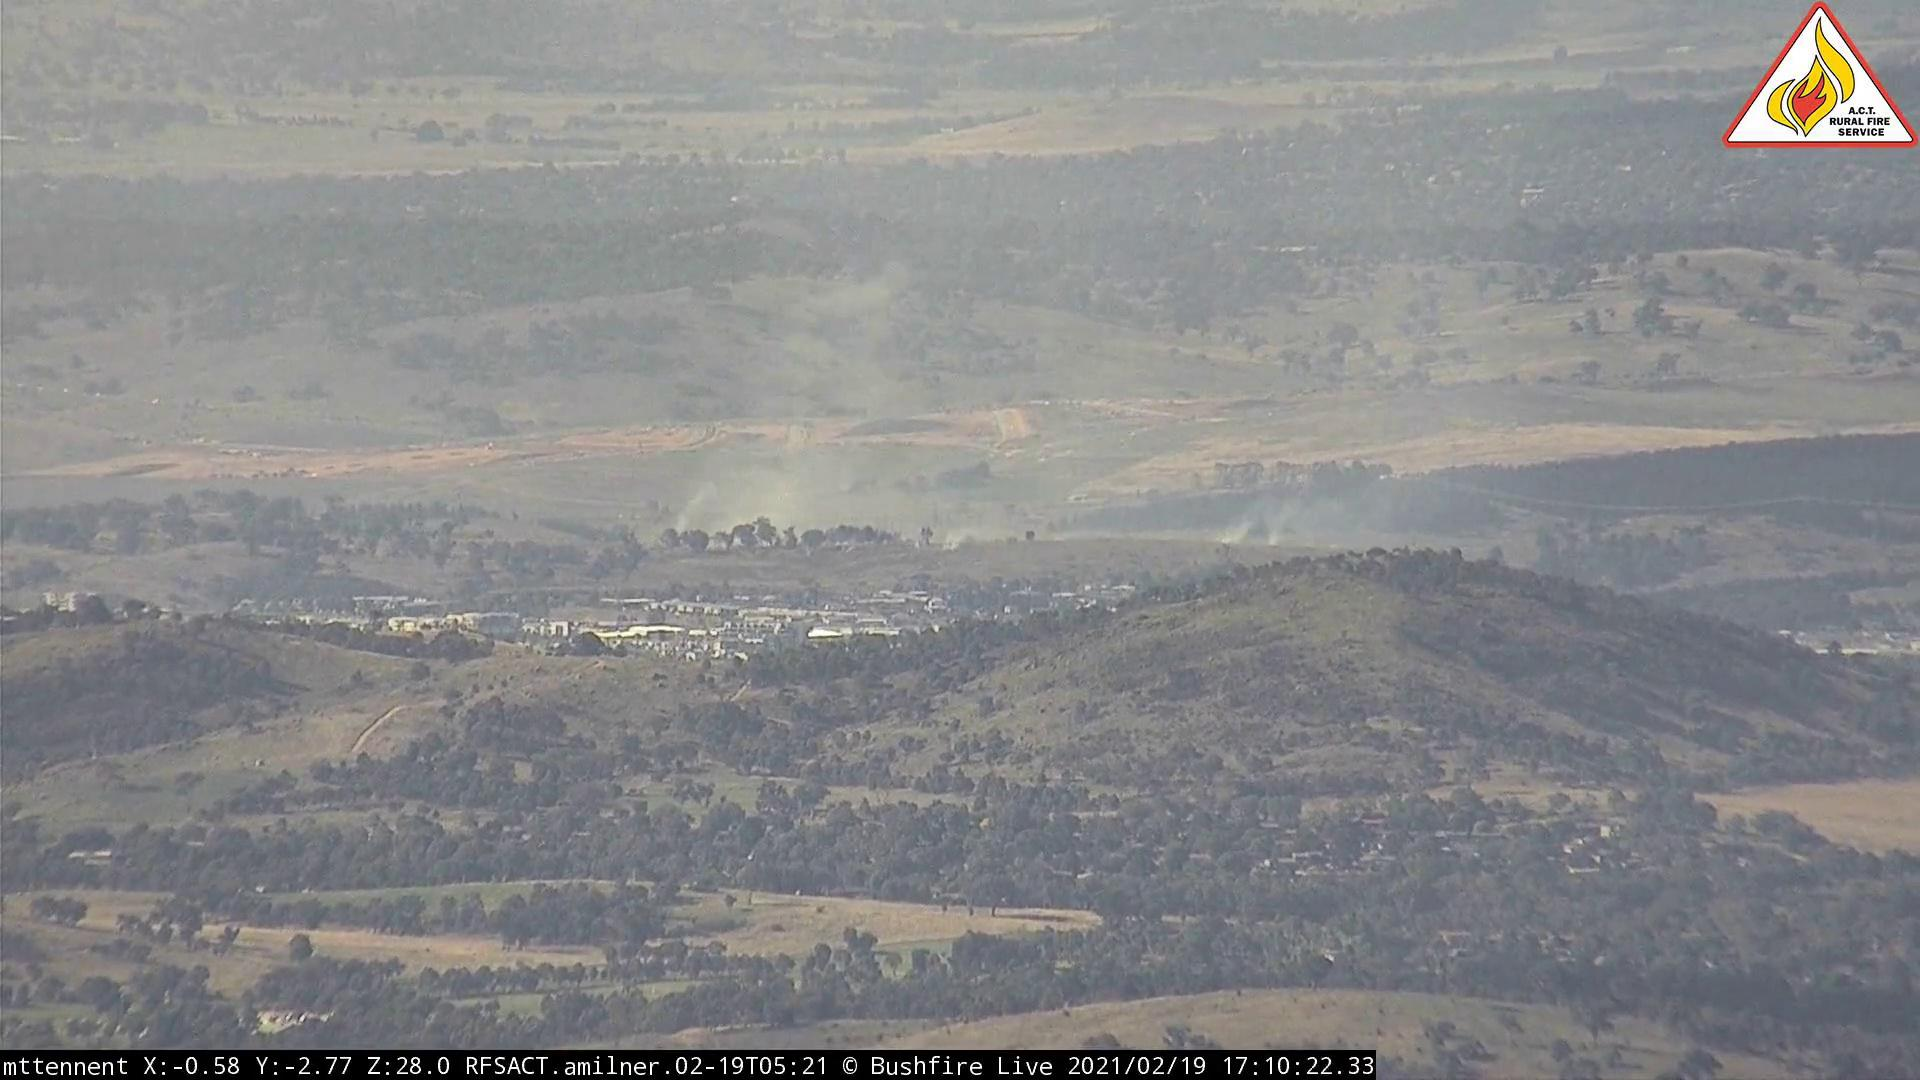instance_salient_object: (657, 368, 940, 556), (1207, 468, 1371, 555)
